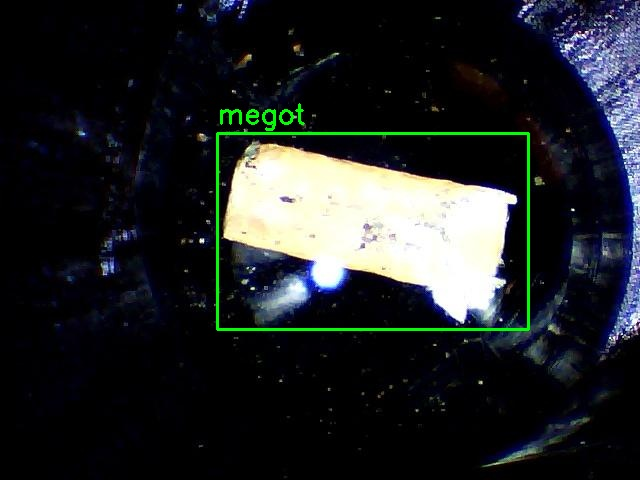megot: (217, 133, 528, 329)
